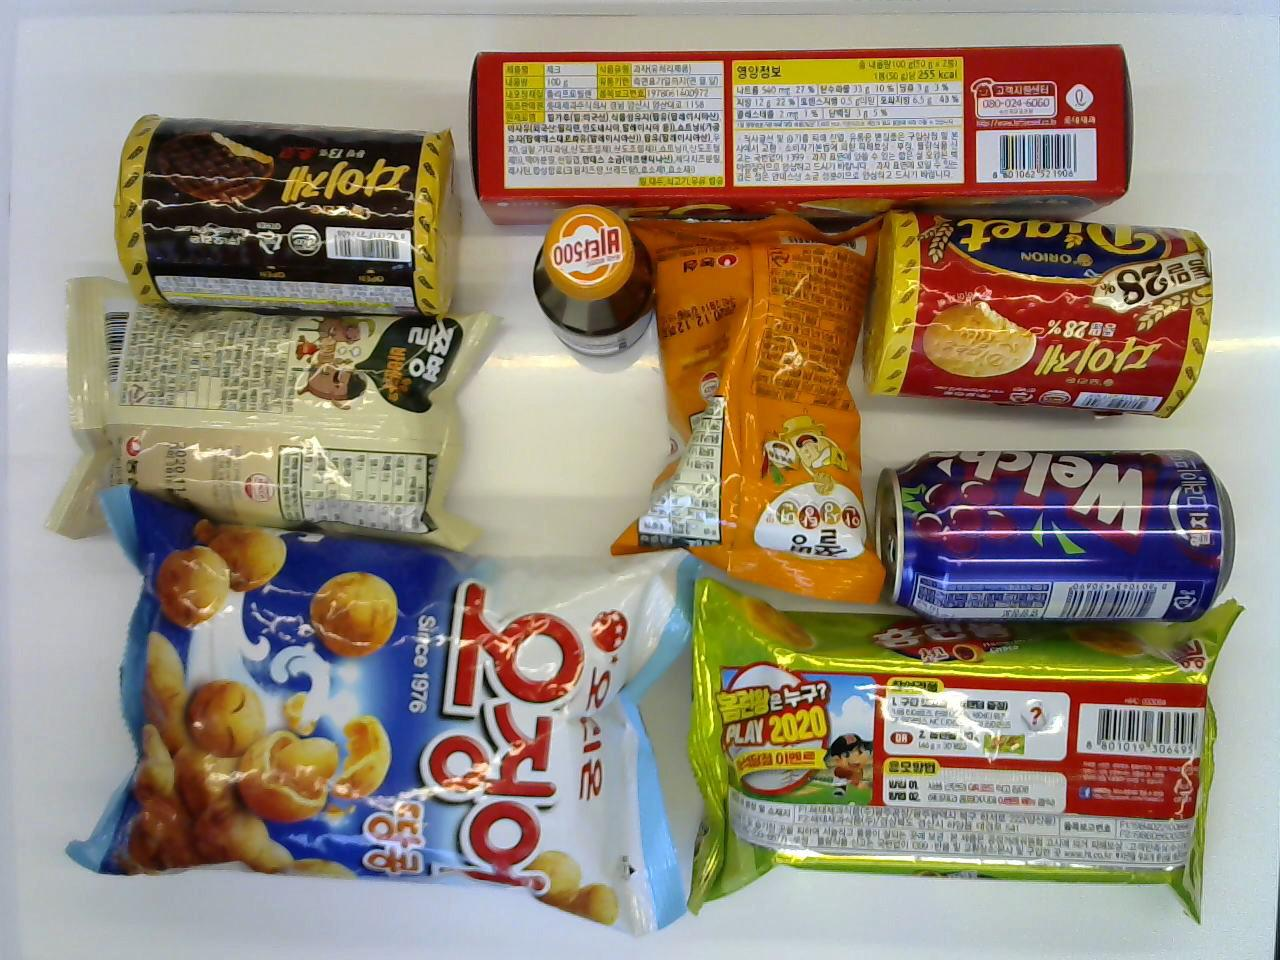diget_choco: (111, 108, 467, 314)
diget_ori: (858, 205, 1221, 424)
homerunball: (679, 567, 1252, 926)
jjolbyung_noodle: (610, 206, 886, 608)
jjolbyung_ori: (50, 273, 498, 565)
squid_peanut: (65, 484, 703, 937)
vita500: (526, 205, 671, 352)
welchs: (873, 442, 1241, 624)
zec: (464, 43, 1136, 219)
